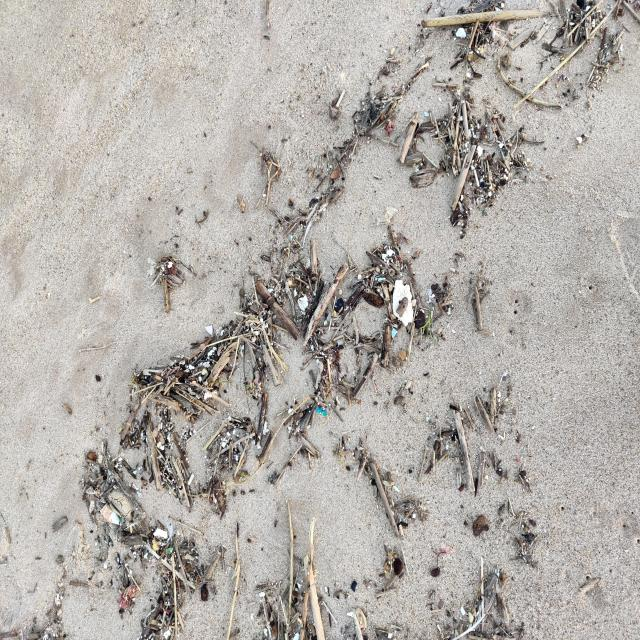litter: (212, 475, 226, 512), (100, 503, 120, 525), (118, 586, 137, 608), (384, 121, 395, 136), (316, 407, 327, 416), (152, 539, 160, 551), (117, 423, 126, 433), (188, 474, 194, 485), (392, 328, 397, 338), (338, 338, 343, 345), (130, 526, 133, 533), (167, 611, 169, 615)
